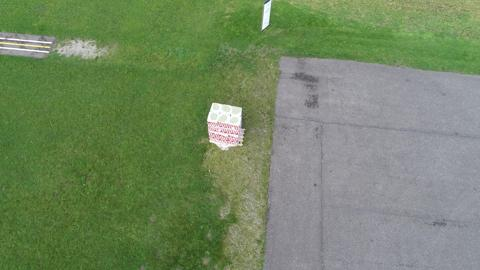RockwoolPallet: (205, 103, 243, 143)
